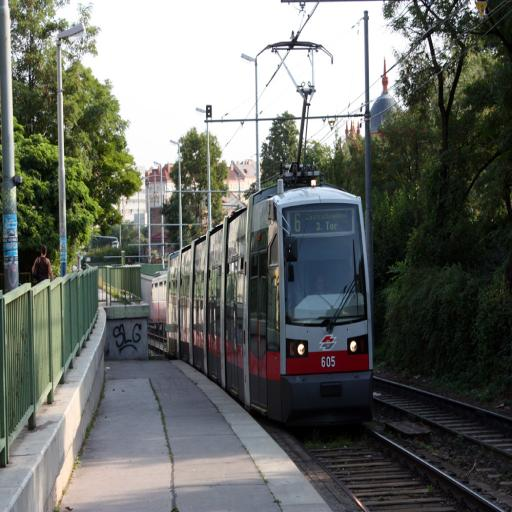ULF: (167, 183, 373, 430)
